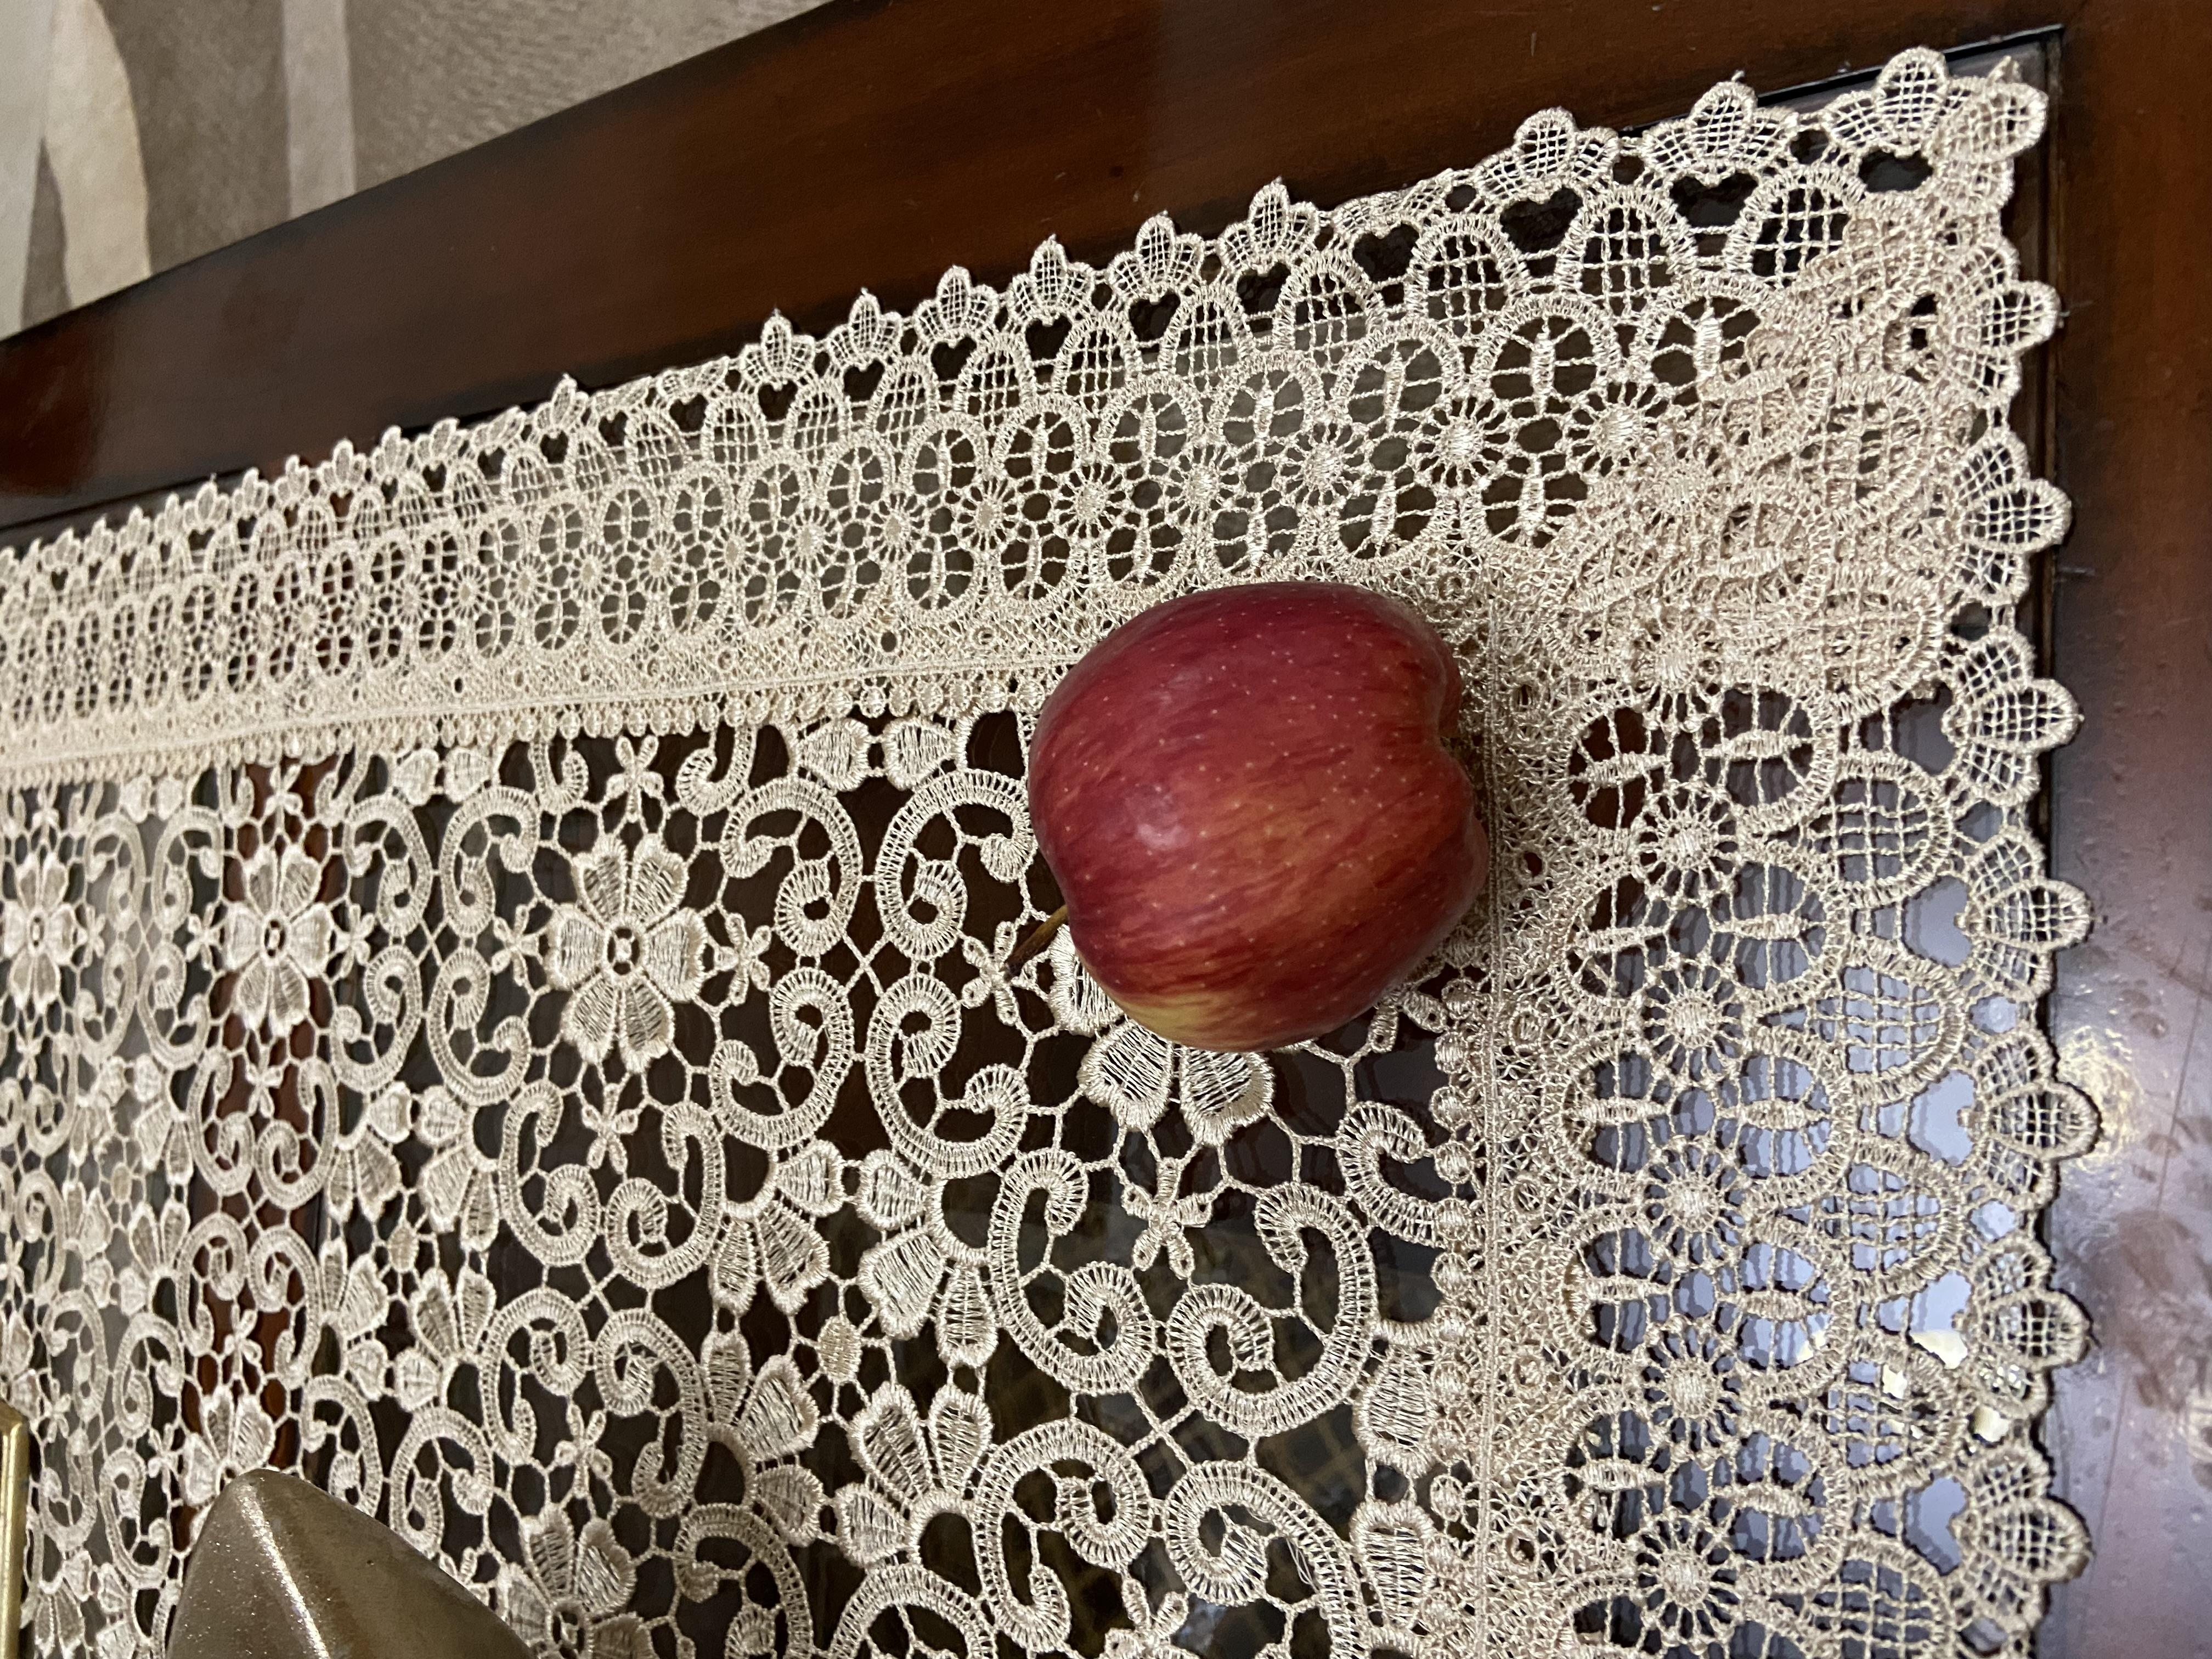Apple: (779, 744, 1449, 1136)
